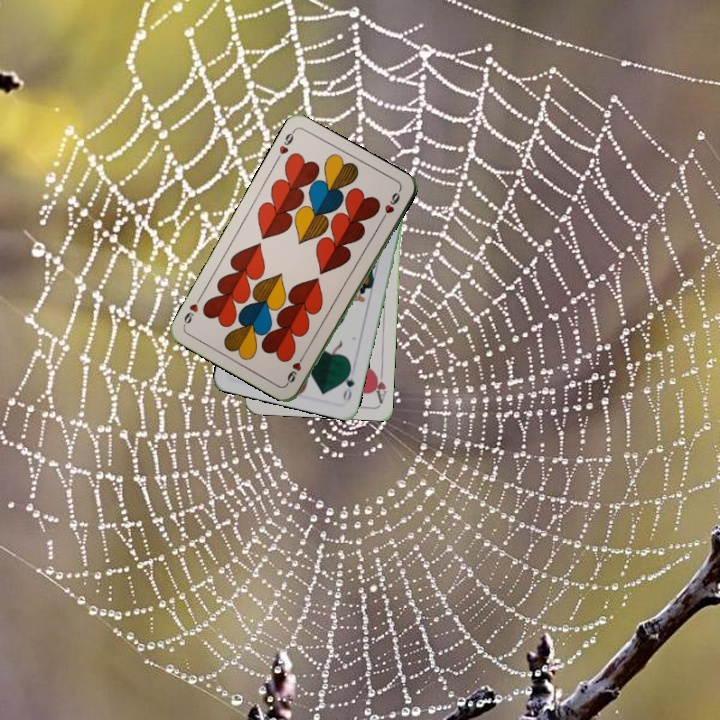GO: (339, 363, 357, 404)
H9: (282, 349, 308, 386), (272, 127, 297, 164)
HA: (369, 364, 389, 405)
